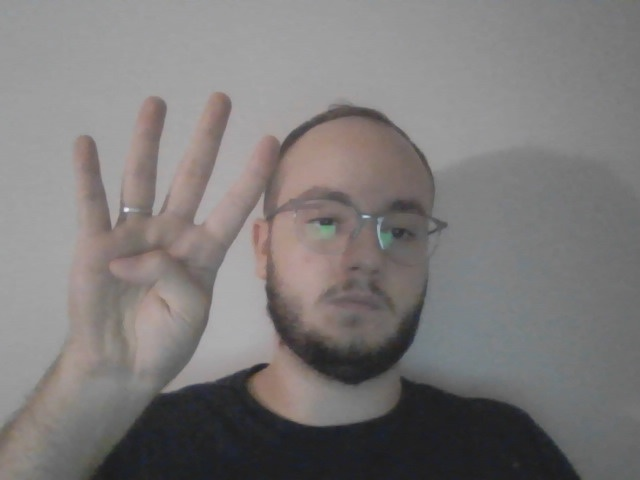Four: (50, 92, 282, 378)
